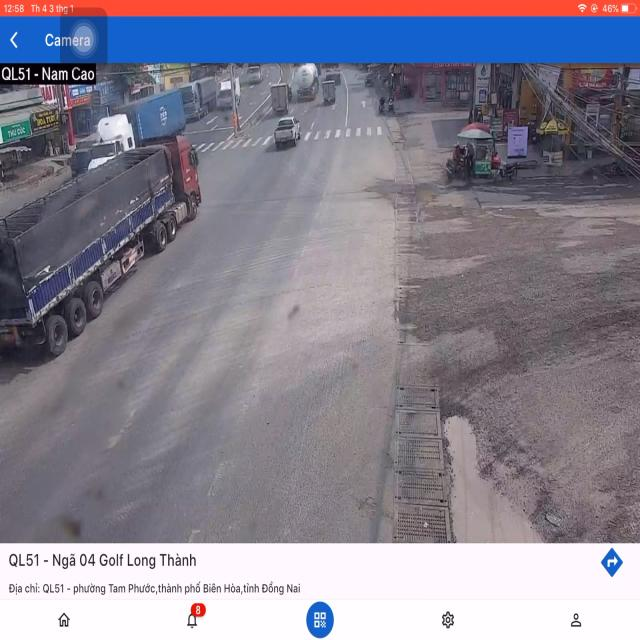car: (273, 112, 299, 149)
truck: (5, 131, 200, 364)
